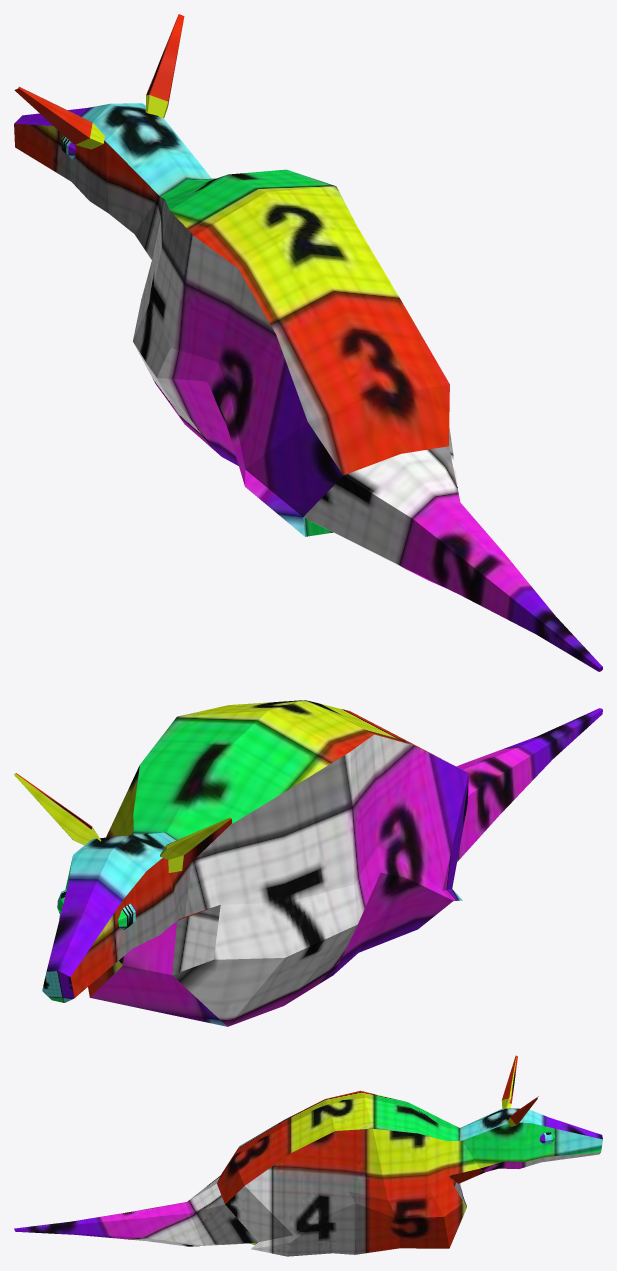
File: Gordeldier.fbx
3 views of the same model, one above another, from view 1: azimuth 30°, elevation 25°; view 2: azimuth 150°, elevation 25°; view 3: azimuth 270°, elevation 25° (orthographic). The views are drawn at different scales.
Visible parts, largest first — view 1: pCylinder8; view 2: pCylinder8; view 3: pCylinder8.
Part boxes in pixels (left/top/right/bottom): pCylinder8: left=14, top=14, right=602, bottom=671; pCylinder8: left=14, top=700, right=602, bottom=1026; pCylinder8: left=14, top=1055, right=602, bottom=1256.
Bounding box in the file's own units: 8.06 × 10.15 × 32.74.
1 material, 1 textured.
